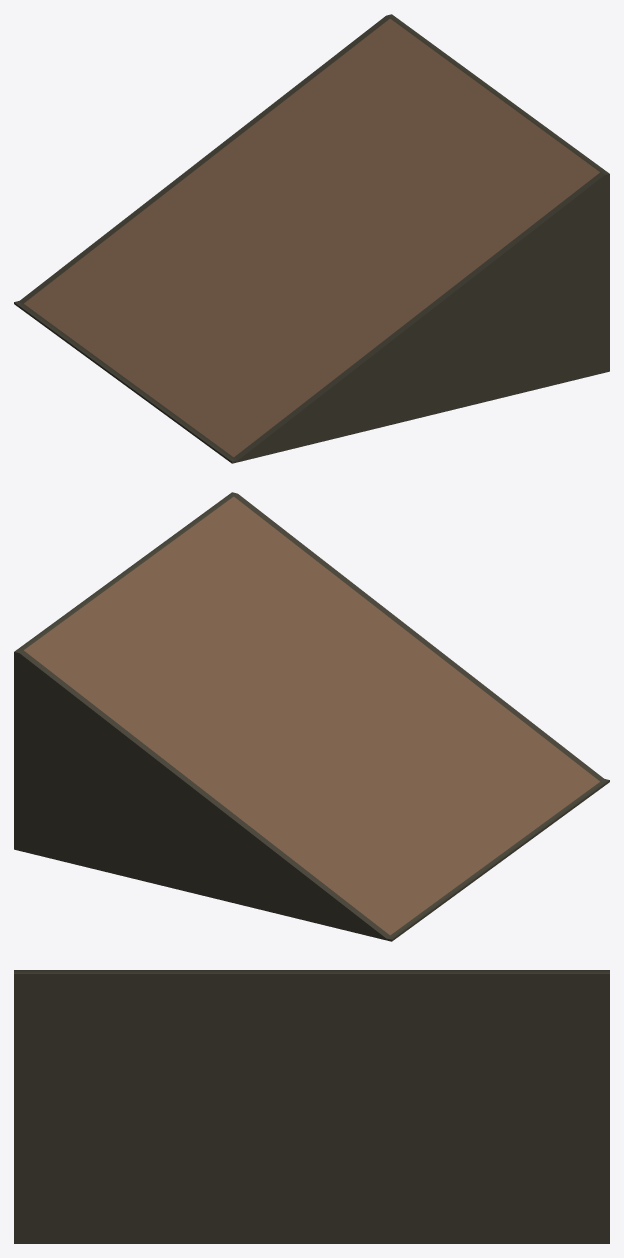
Rendered from Casilla 6.fbx.
3 views of the same model, one above another, from view 1: azimuth 30°, elevation 25°; view 2: azimuth 150°, elevation 25°; view 3: azimuth 270°, elevation 25° (orthographic). The views are drawn at different scales.
Visible parts, largest first — view 1: pCube2; view 2: pCube2; view 3: pCube2.
Boxes of the visible parts, x1=… form: pCube2: x1=14, y1=14, x2=609, y2=463; pCube2: x1=14, y1=492, x2=609, y2=941; pCube2: x1=14, y1=970, x2=609, y2=1243.
Bounding box in the file's own units: 200 × 100 × 200.
